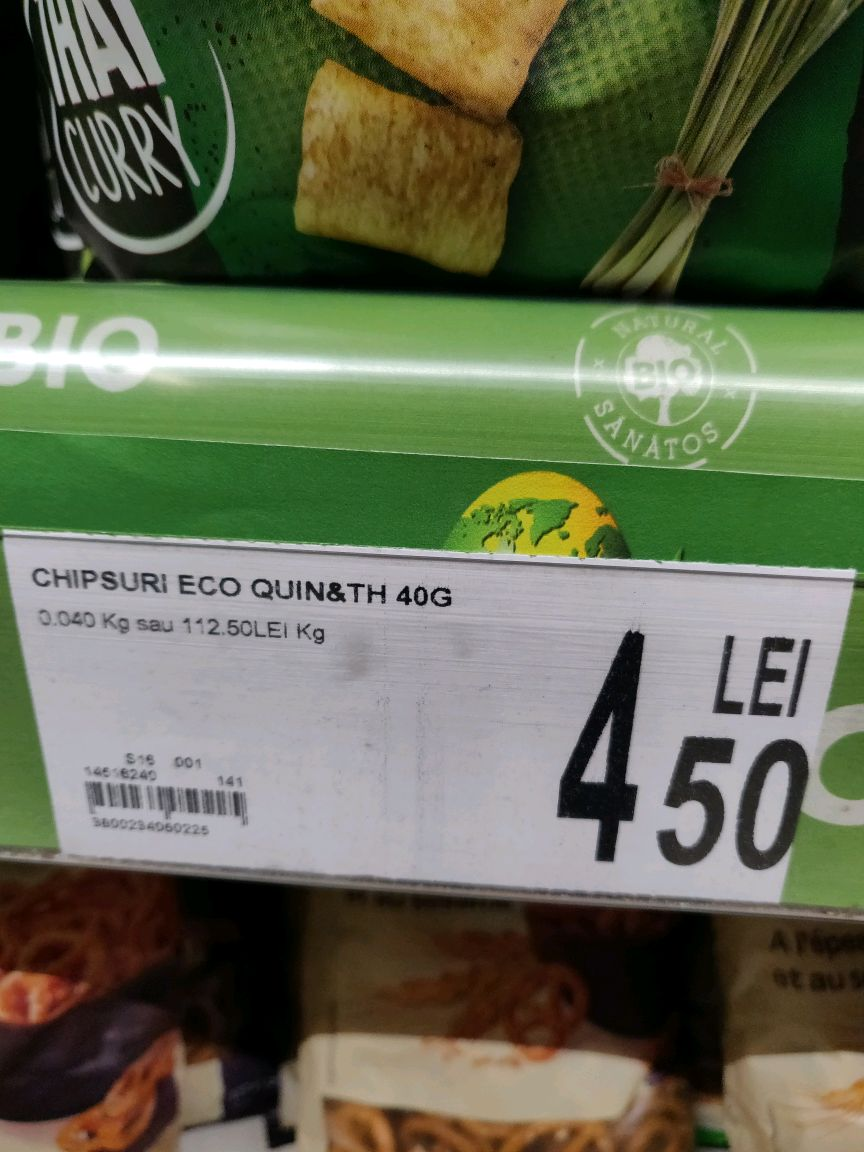price_bani: (652, 731, 820, 880)
price_lei: (535, 621, 657, 878)
price_tag: (2, 527, 856, 930)
product_id: (82, 818, 232, 841)
product_name: (17, 558, 468, 615)
